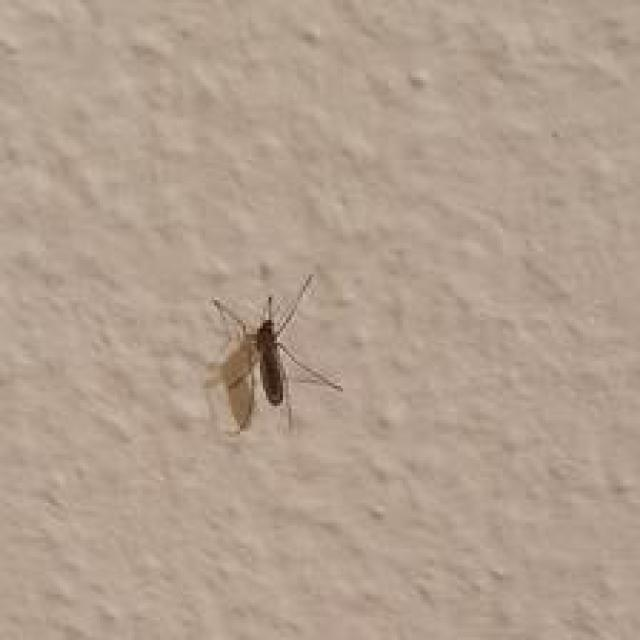Culex: (200, 270, 343, 436)
